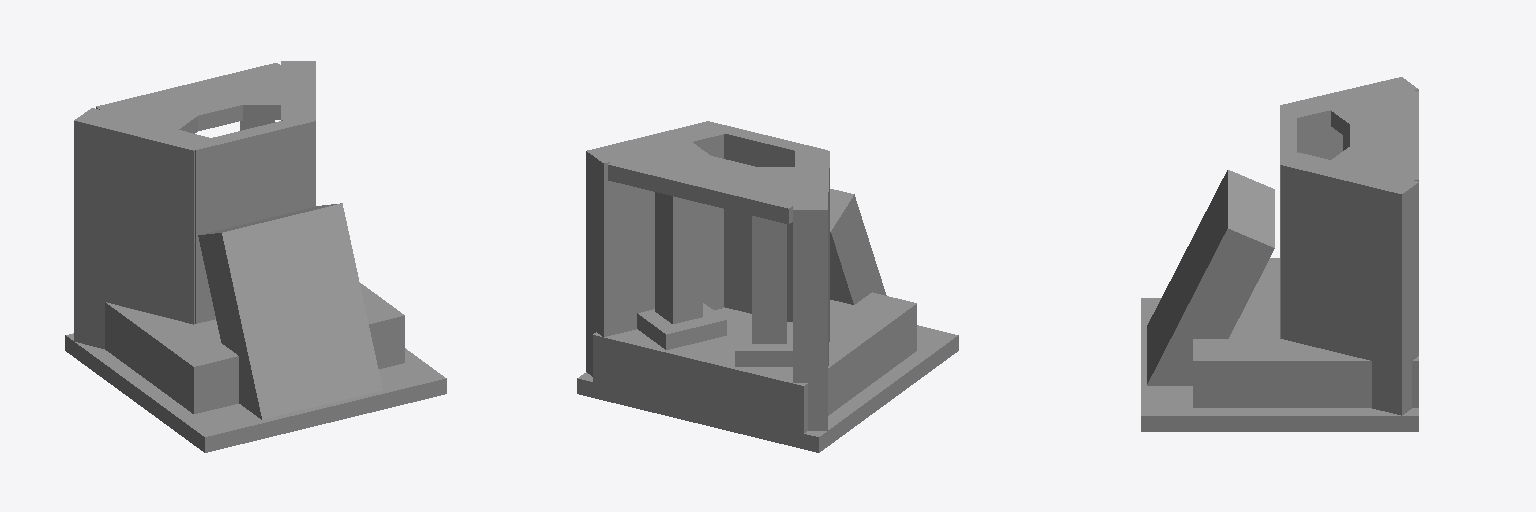
File: nuclear_boiler.obj
3 views of the same model, side by side, from view 1: azimuth 30°, elevation 25°; view 2: azimuth 150°, elevation 25°; view 3: azimuth 270°, elevation 25° (orthographic).
Visible parts, largest first — view 1: ThermalDisplay, RadShieldPlate2, RadShieldPlate1, Support, Base, TopSupport3, TopSupport1, RadShieldPlate3, TopSupport2; view 2: Support, RadShieldPlate3, RadShieldPlate2, Base, TopSupport3, RadShieldPlate1, FuelBar1Rotates, ThermalDisplay, FuelBar2Rotates, FuelBarSupport1Rotates, FuelBarSupport2Rotates, TopSupport1; view 3: RadShieldPlate3, ThermalDisplay, Support, Base, TopSupport3, RadShieldPlate2, TopSupport2, TopSupport1, RadShieldPlate1.
Part boxes in pixels (x1,y1,x2,y2): ThermalDisplay: (198,203,382,419); RadShieldPlate2: (74,108,210,348); RadShieldPlate1: (195,120,315,323); Support: (105,283,404,413); Base: (65,333,446,452); TopSupport3: (96,63,292,131); TopSupport1: (225,75,311,119); RadShieldPlate3: (281,61,315,120); TopSupport2: (103,105,197,135); Support: (593,292,916,433); RadShieldPlate3: (586,121,723,376); RadShieldPlate2: (793,151,829,430); Base: (577,325,958,452); TopSupport3: (608,139,822,223); RadShieldPlate1: (700,121,827,321); FuelBar1Rotates: (655,192,702,323); ThermalDisplay: (830,189,886,304); FuelBar2Rotates: (752,216,786,343); FuelBarSupport1Rotates: (637,303,726,349); FuelBarSupport2Rotates: (735,322,792,366); TopSupport1: (616,138,712,176); RadShieldPlate3: (1281,152,1418,415); ThermalDisplay: (1147,170,1274,385); Support: (1193,258,1418,407); Base: (1141,298,1418,431); TopSupport3: (1350,91,1418,181); RadShieldPlate2: (1280,77,1418,159); TopSupport2: (1316,85,1399,139); TopSupport1: (1316,140,1416,185); RadShieldPlate1: (1280,106,1296,338).
Size of the model in its own units: 1 by 0.9523 by 1.